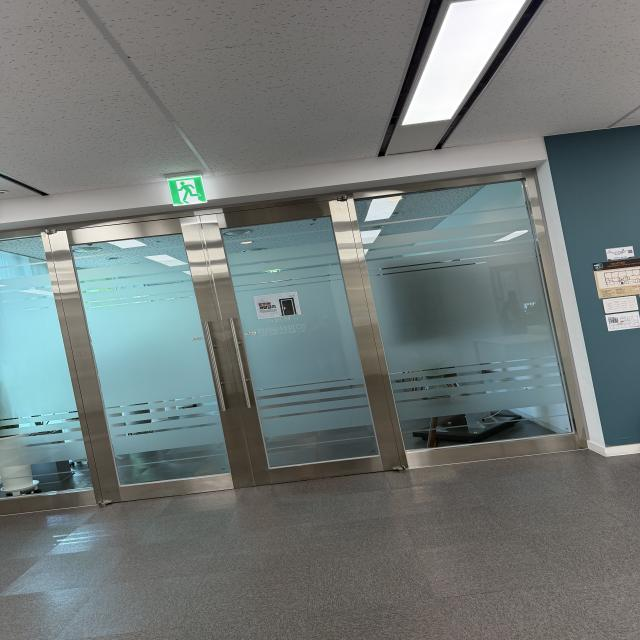front_door: (0, 169, 589, 519)
